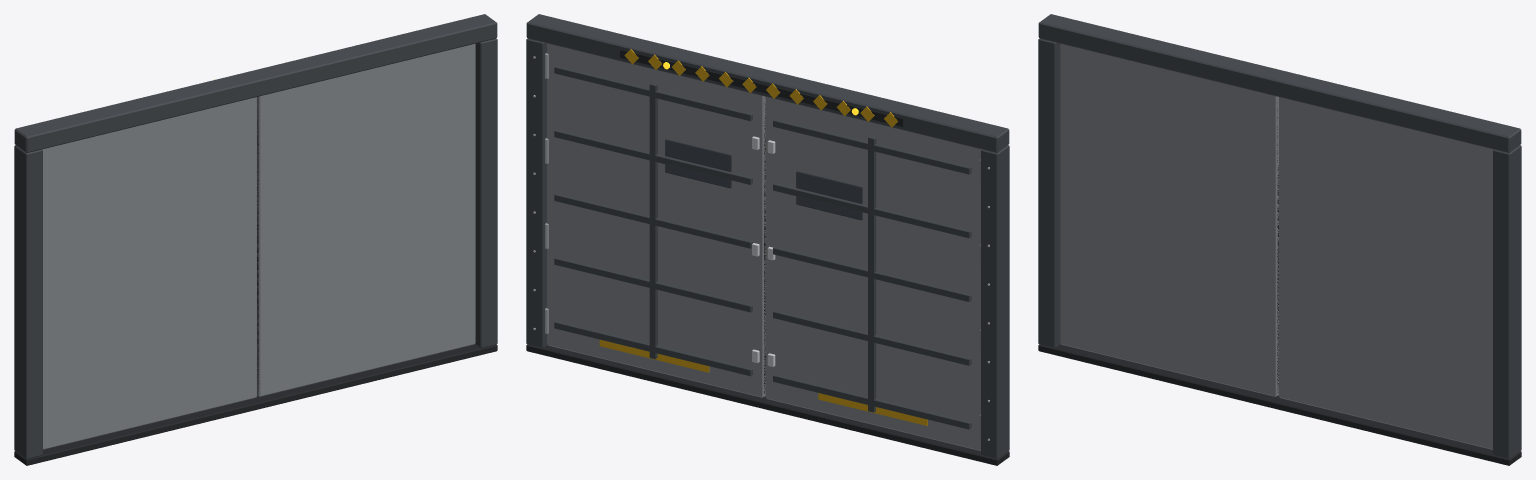
File: clamshell_doors.glb
3 renders of one model, left to right at view 1: azimuth 30°, elevation 25°; view 2: azimuth 150°, elevation 25°; view 3: azimuth 330°, elevation 25°, orthographic.
Parts seen in each view (by area): view 1: leaf_r, leaf_l, base; view 2: leaf_r, leaf_l, base; view 3: leaf_l, leaf_r, base.
Part boxes in pixels (x1,y1,x2,y2): leaf_r: (257,43,475,396); leaf_l: (42,97,256,449); base: (14,14,497,465); leaf_r: (545,43,765,397); leaf_l: (765,97,981,450); base: (526,14,1009,465); leaf_l: (1060,43,1278,396); leaf_r: (1279,97,1493,449); base: (1038,14,1521,465).
Size of the model in its own units: 6 by 4 by 0.3.
